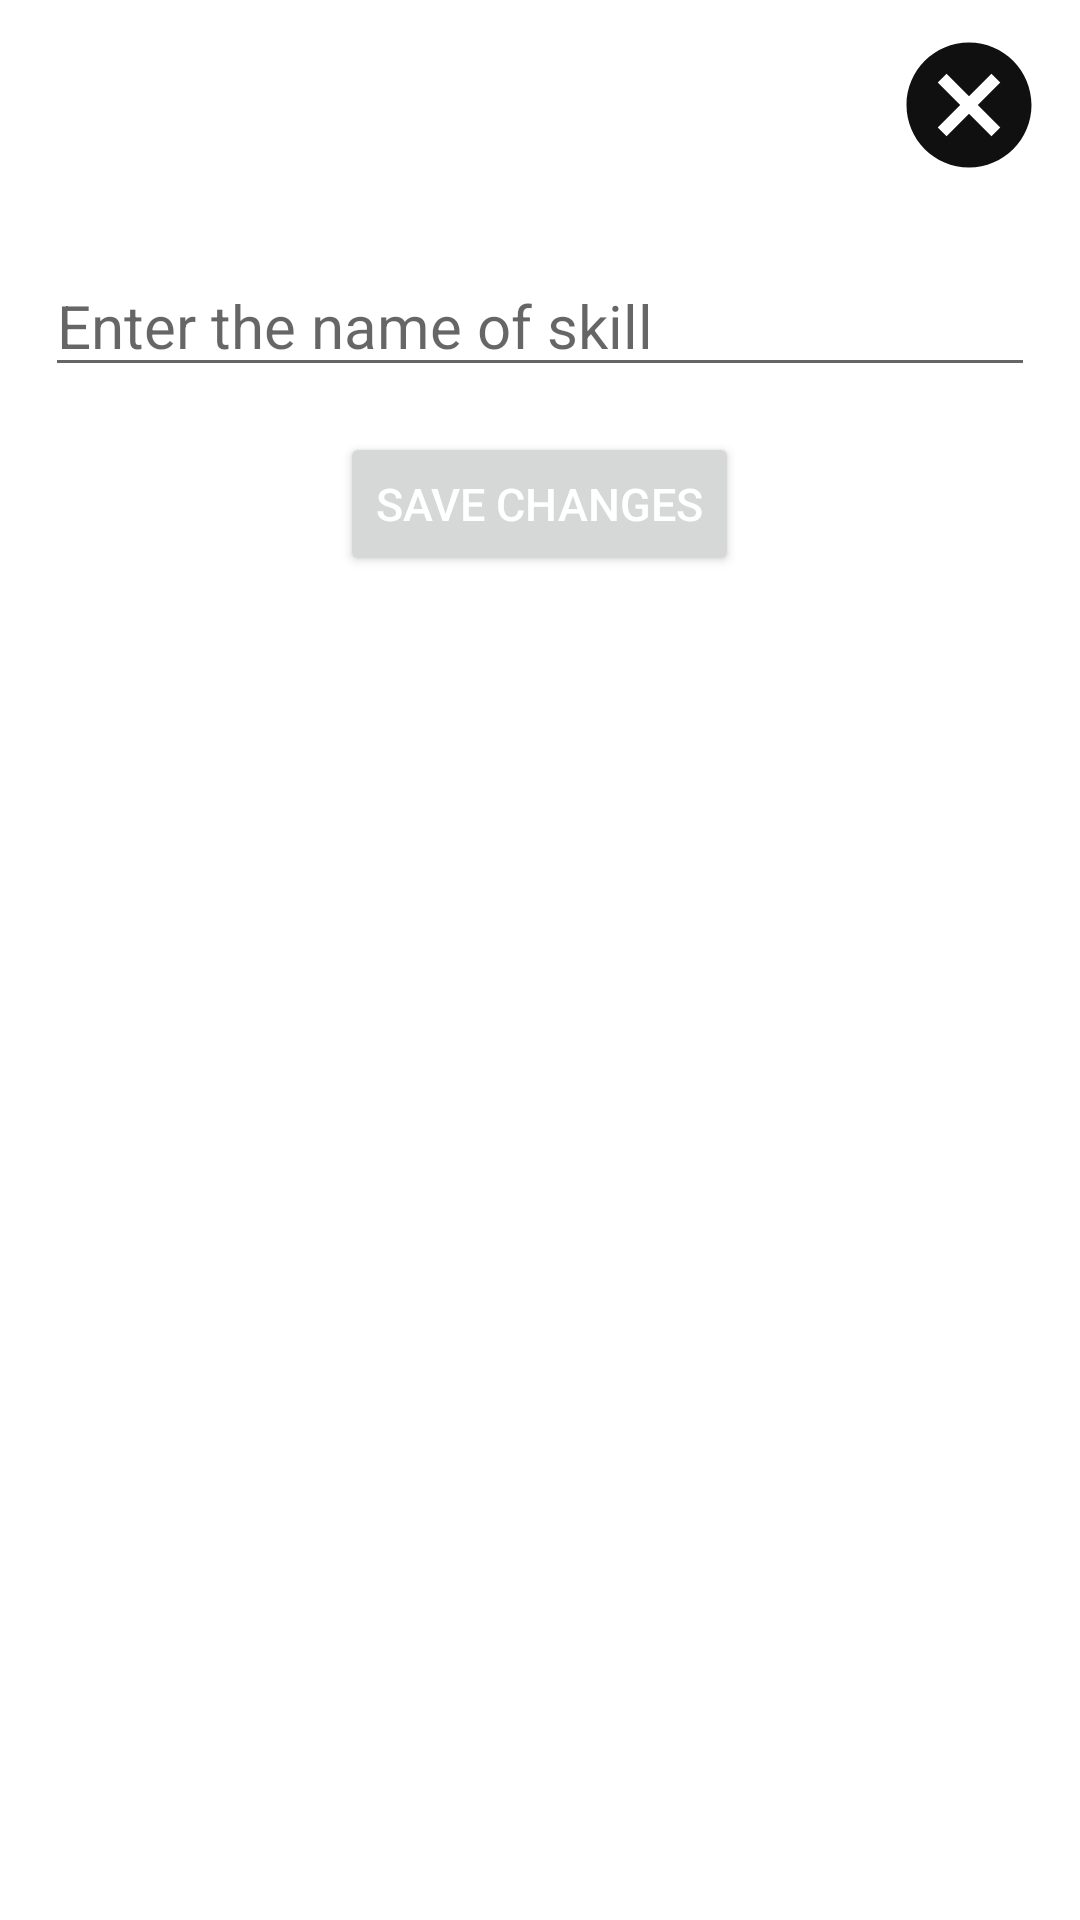

Point at icon controls on the screen. Image size 1080×1920, points as (x=x, y=y).
cancel: (x=969, y=105)
